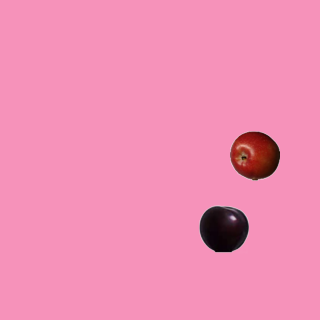Apple Braeburn: (229, 130, 279, 180)
Cherry Wax Black: (198, 203, 248, 253)
